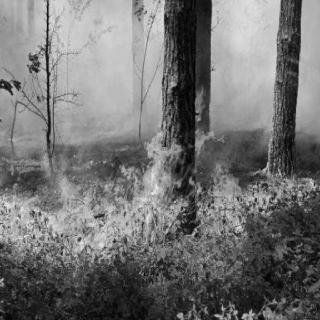Fire: (195, 159, 308, 240)
